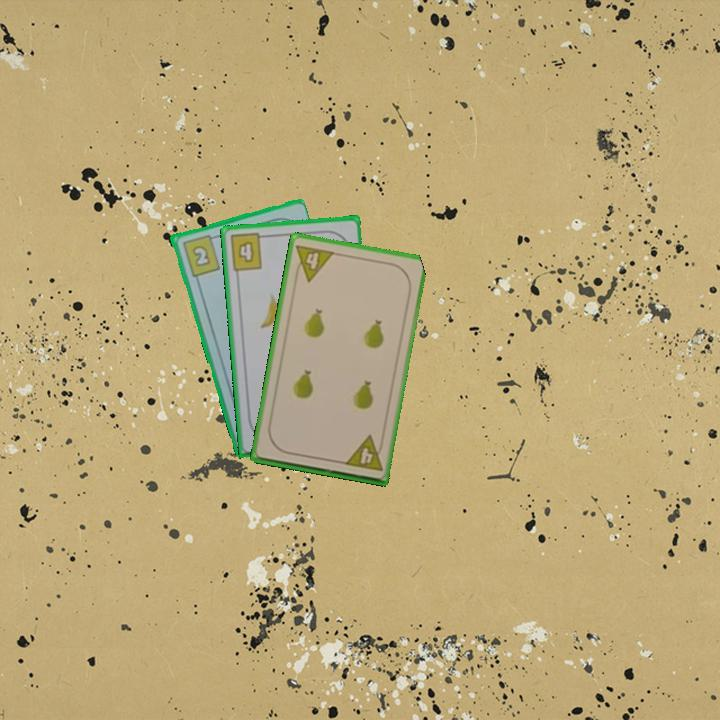2b: (179, 231, 223, 279)
4b: (226, 230, 270, 274)
4p: (290, 241, 337, 284), (341, 432, 386, 474)
